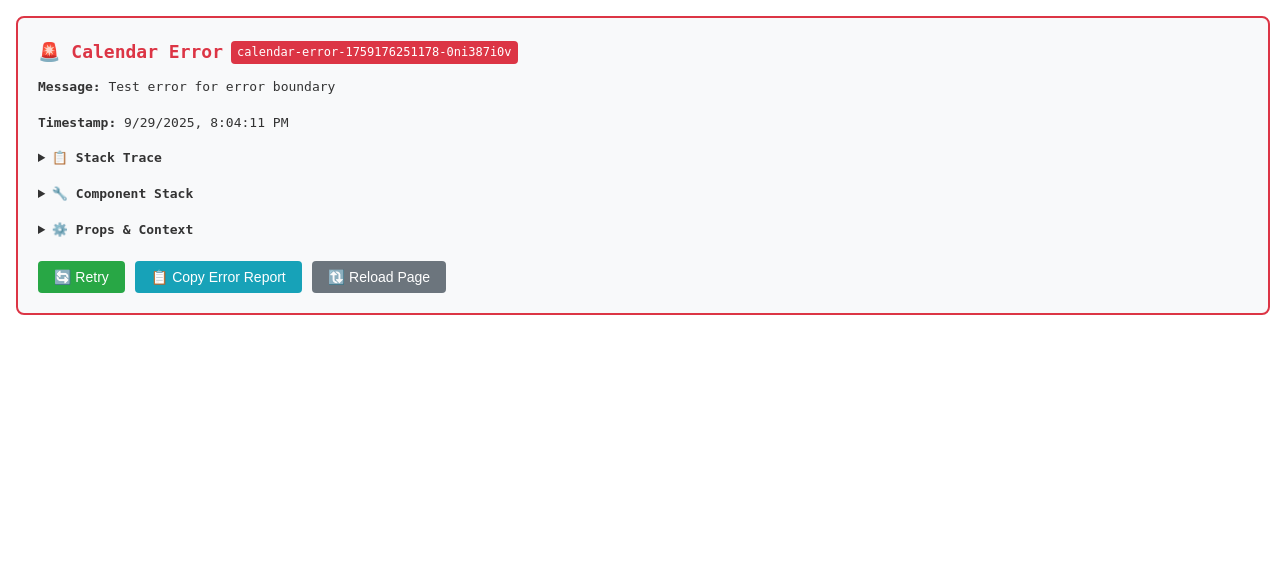
CalendarErrorBoundary › Error Details sections › should show expandable error details in development mode
The width and height of the screenshot is (1287, 564).
expect the heading "🔧 Component Stack" is shown: met, box [52,186,193,201]
expect the heading "⚙️ Props & Context" is shown: met, box [52,222,193,237]
Note: Click to expand
Click the heading "📋 Stack Trace": (107, 158) [52,150,162,165]
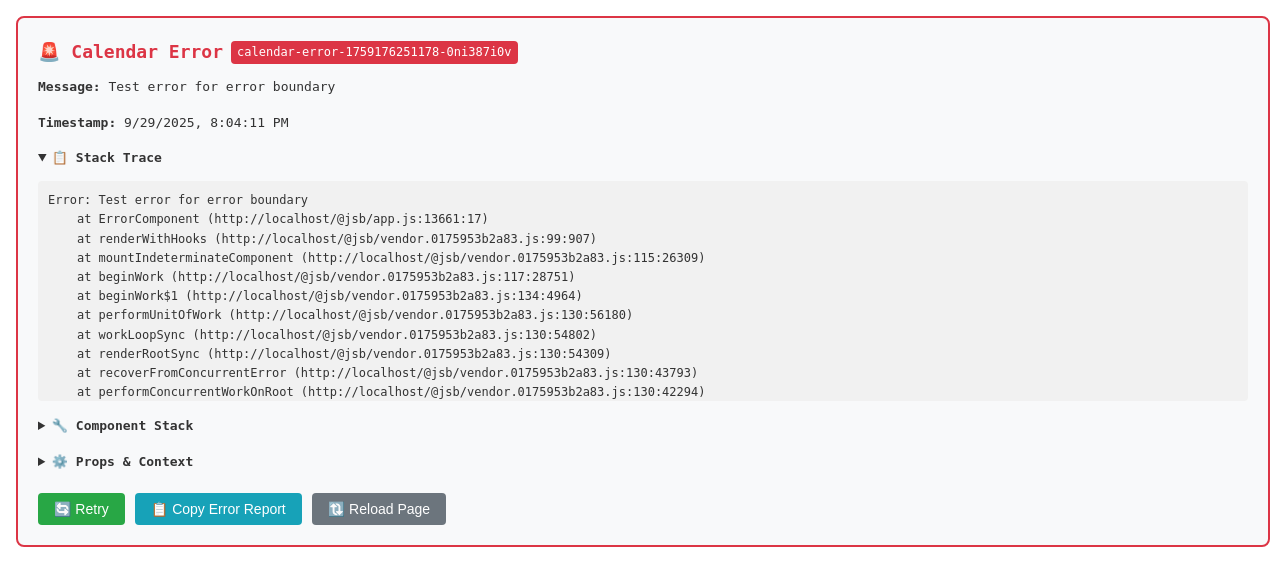
expect the text "📋 Stack Trace" shows "Test error for error boundary": met, box [48,193,706,399]
